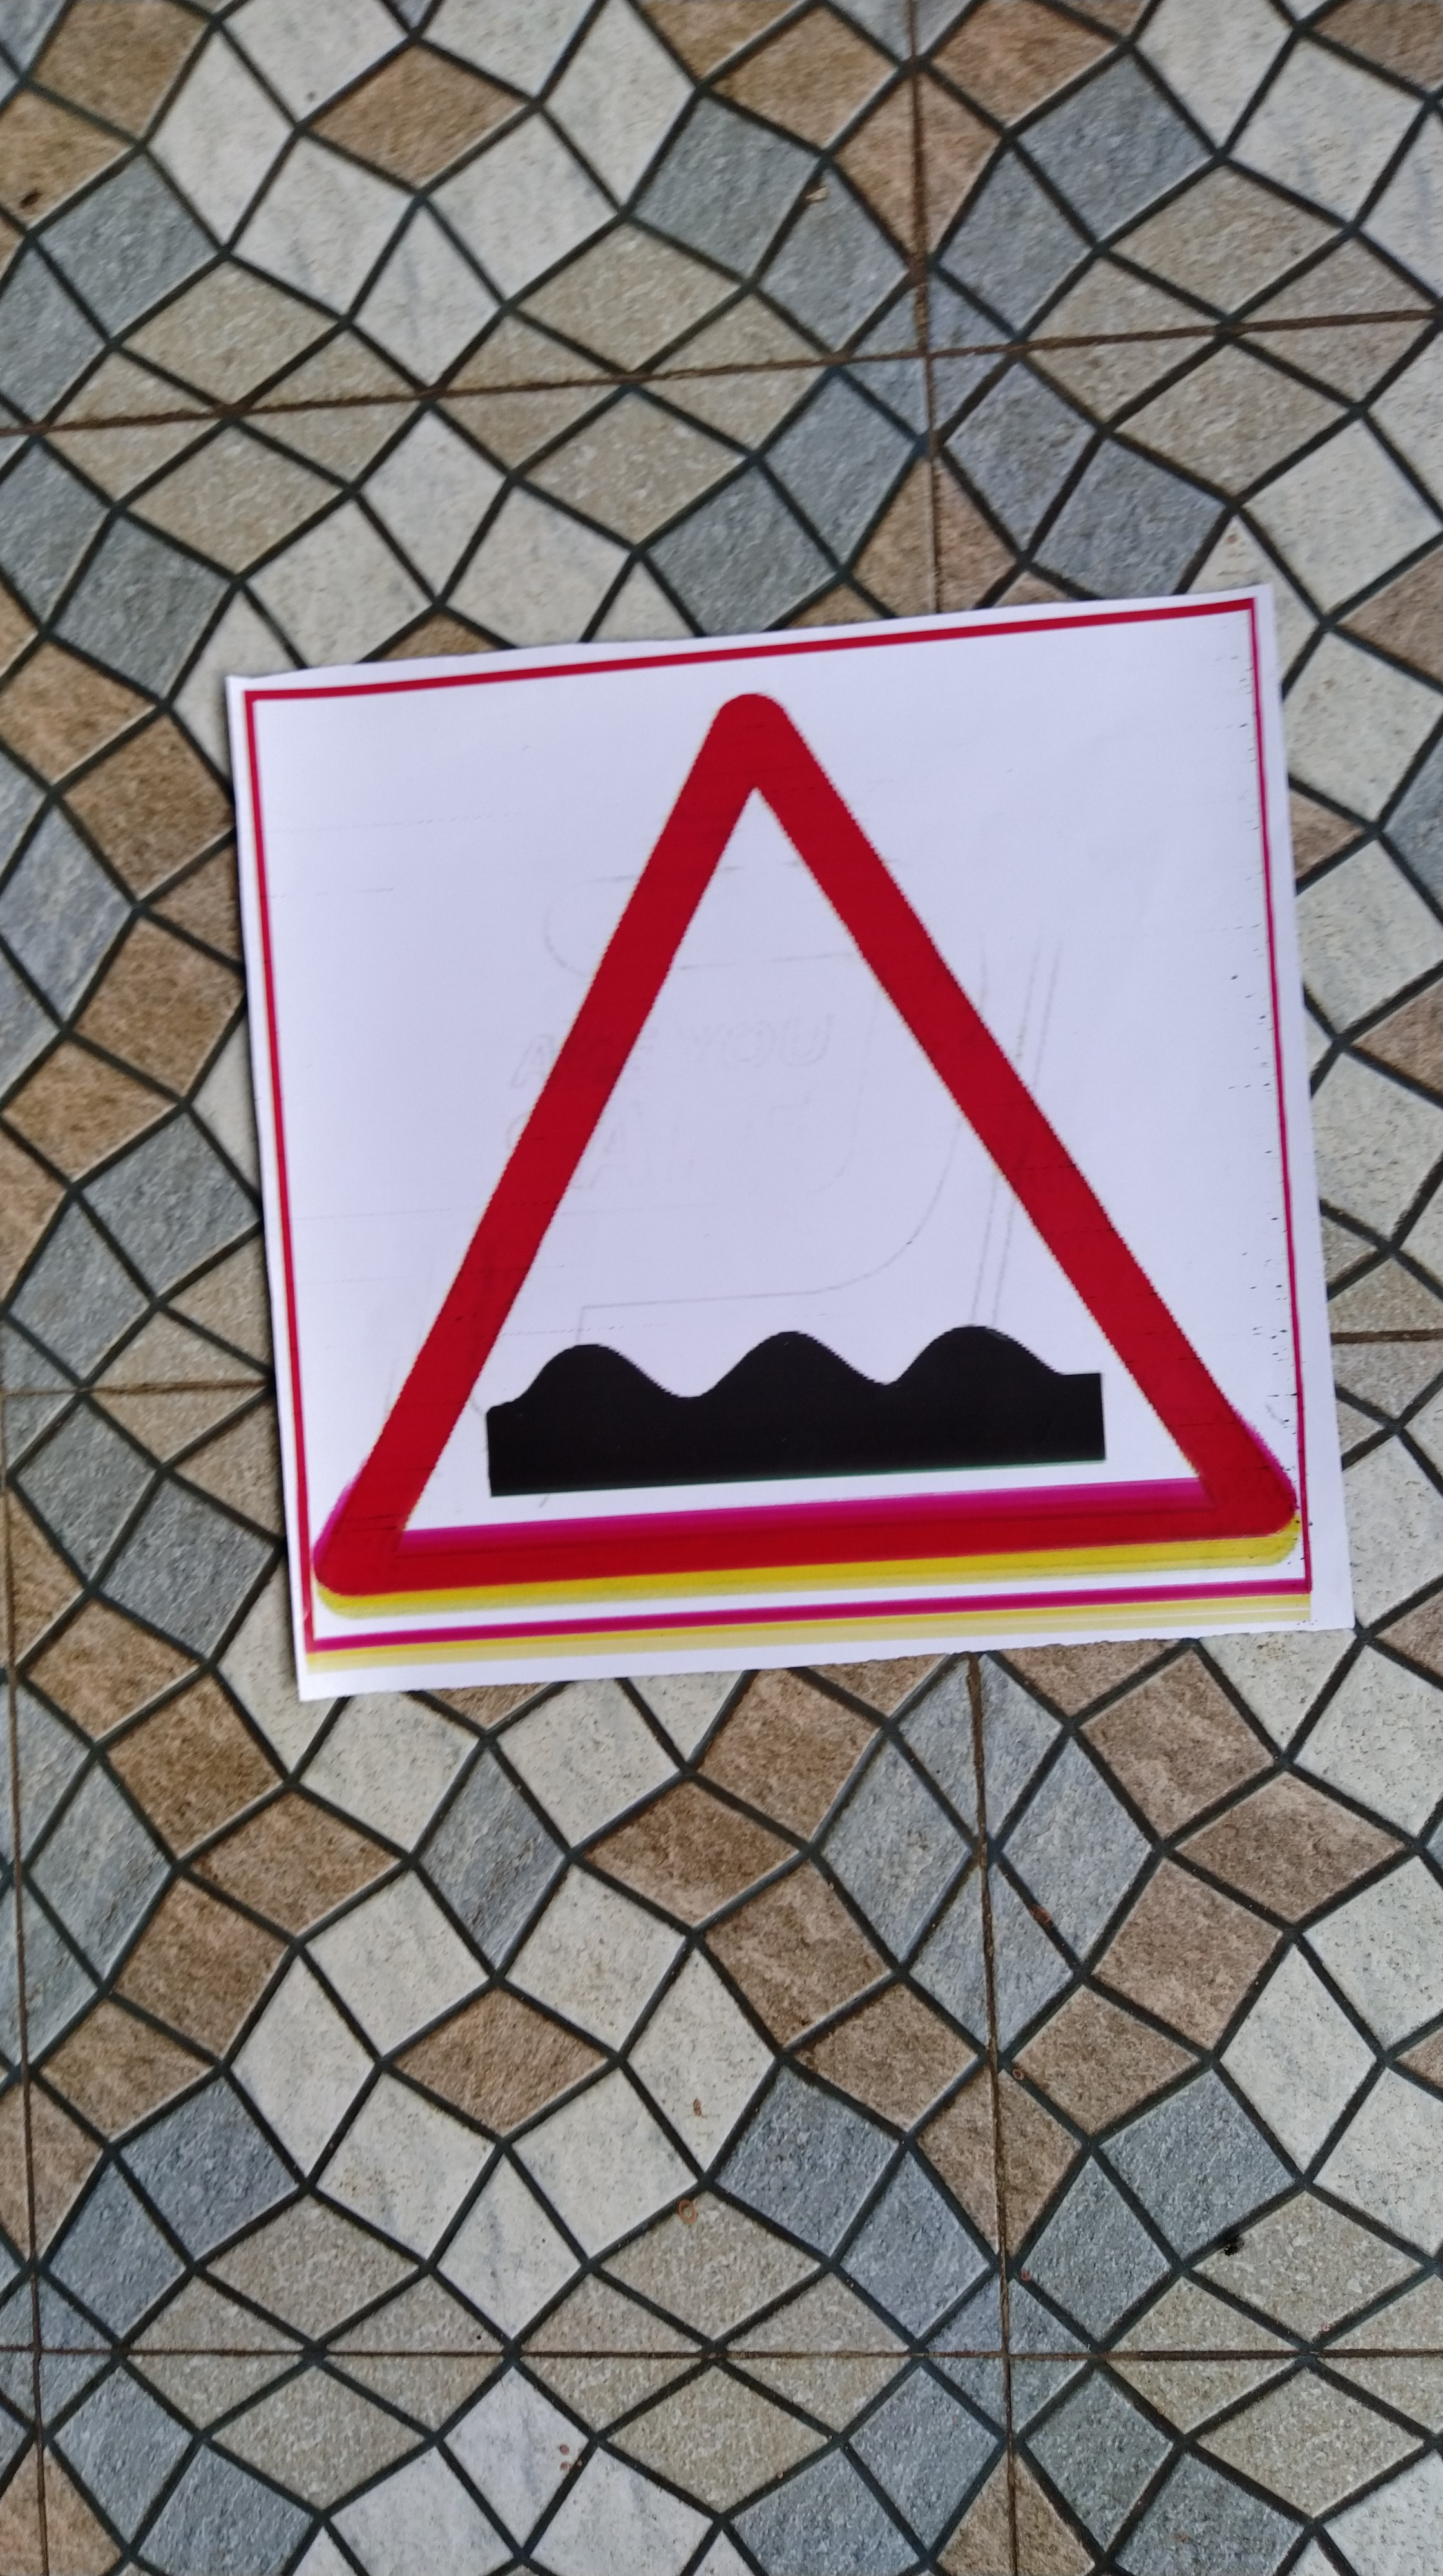speed breaker: (241, 681, 1339, 1621)
